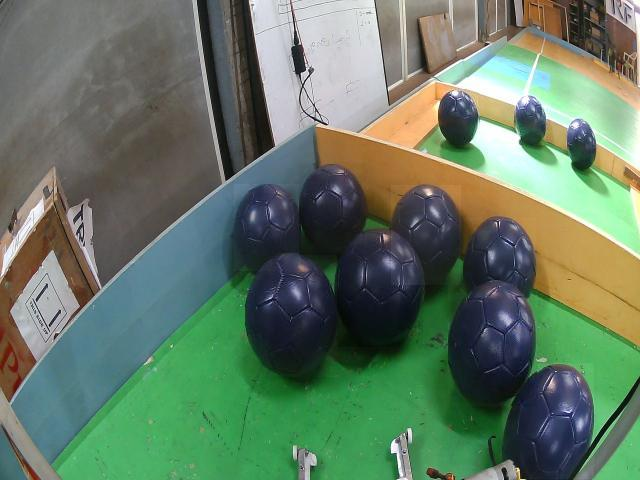kaalyya: (246, 253, 337, 377), (448, 280, 537, 406), (503, 364, 594, 480), (335, 228, 423, 347), (392, 185, 461, 285), (300, 164, 367, 255), (464, 217, 536, 298), (234, 185, 301, 271), (439, 90, 479, 147), (515, 95, 547, 145), (566, 118, 596, 170)
